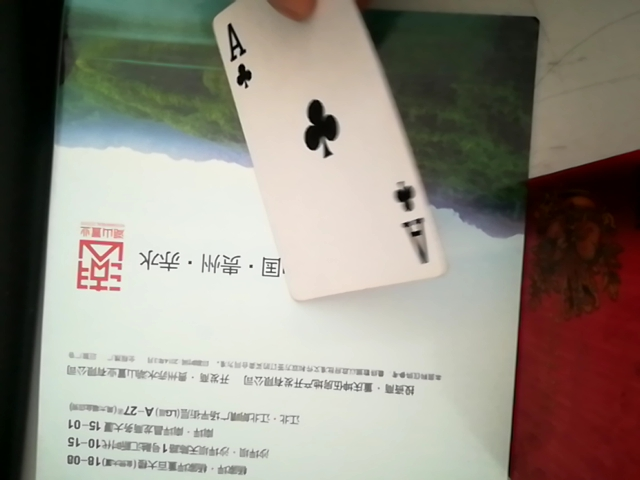mh a: (208, 0, 446, 303)
